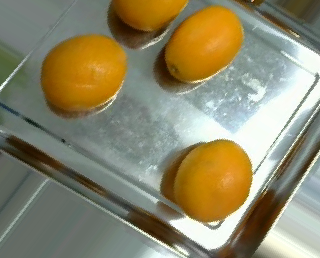Orange: (39, 33, 128, 111), (172, 138, 252, 222), (163, 5, 244, 83)
